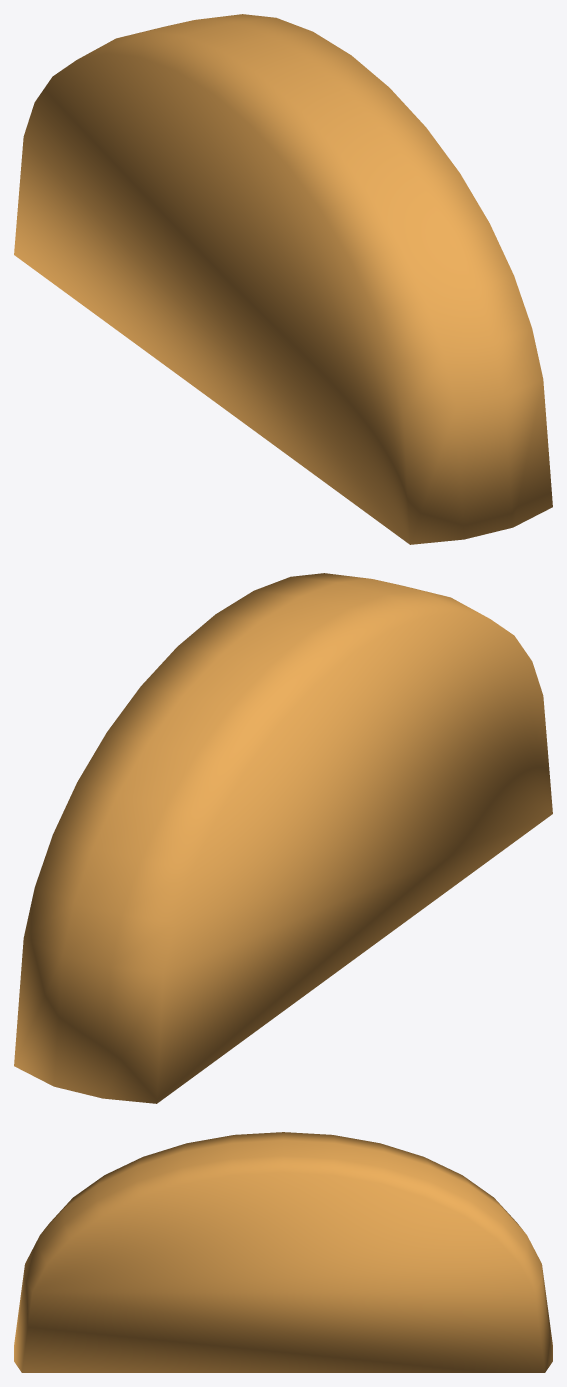
The model's file is car_fender.fbx.
3 views of the same model, one above another, from view 1: azimuth 30°, elevation 25°; view 2: azimuth 150°, elevation 25°; view 3: azimuth 270°, elevation 25° (orthographic). The views are drawn at different scales.
Parts seen in each view (by area): view 1: car_fender; view 2: car_fender; view 3: car_fender.
Boxes of the visible parts, x1,y1,x2,y2 form: car_fender: [14, 14, 552, 544]; car_fender: [14, 573, 552, 1103]; car_fender: [14, 1132, 552, 1372].
Bounding box in the file's own units: 16.76 × 35.76 × 84.97.
